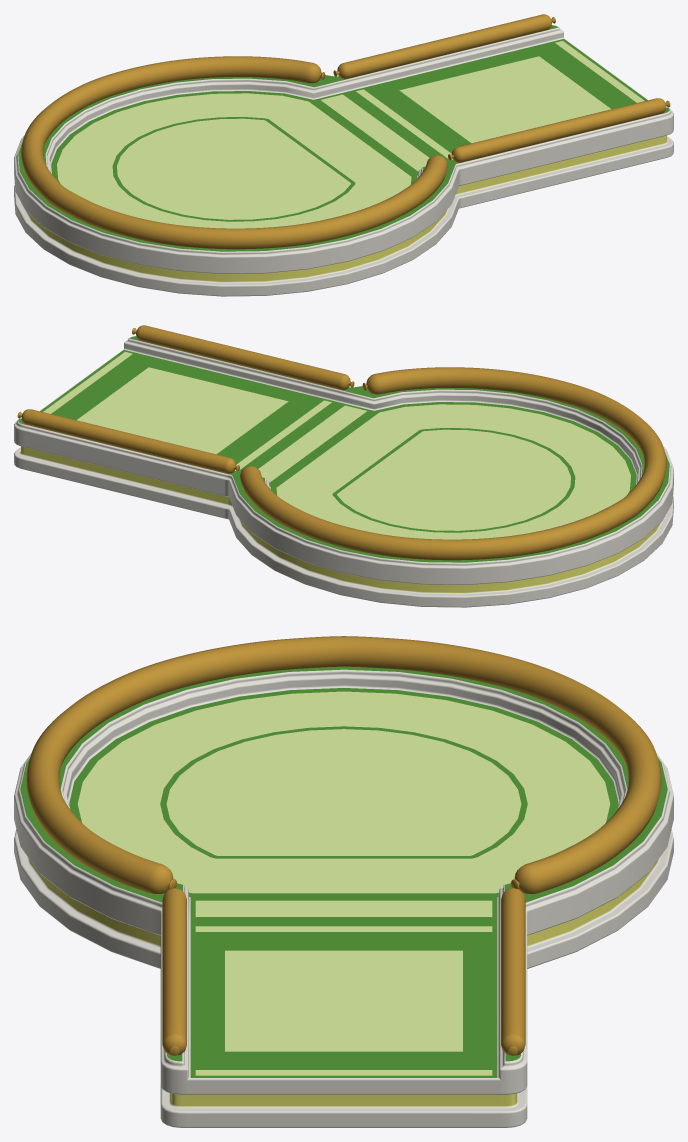
Rendered from SM_Start_Platform_01.fbx.
3 renders of one model, top to bottom at view 1: azimuth 30°, elevation 25°; view 2: azimuth 150°, elevation 25°; view 3: azimuth 270°, elevation 25°, orthographic. The views are drawn at different scales.
Parts seen in each view (by area): view 1: SM_Start_Platform_01; view 2: SM_Start_Platform_01; view 3: SM_Start_Platform_01.
Part boxes in pixels (x1,y1,x2,y2): SM_Start_Platform_01: [14, 14, 673, 296]; SM_Start_Platform_01: [14, 325, 673, 607]; SM_Start_Platform_01: [14, 636, 673, 1127].
Bounding box in the file's own units: 3569 × 354 × 2403.
